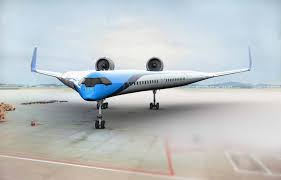maybay_dansu: (29, 43, 255, 121)
